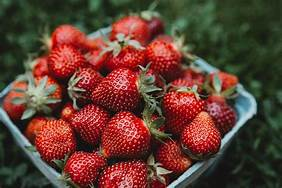Fresa: (98, 106, 156, 164), (87, 66, 152, 115), (160, 83, 213, 138), (177, 108, 225, 161), (67, 99, 114, 149), (34, 116, 79, 166), (62, 146, 108, 188), (96, 155, 153, 188)
